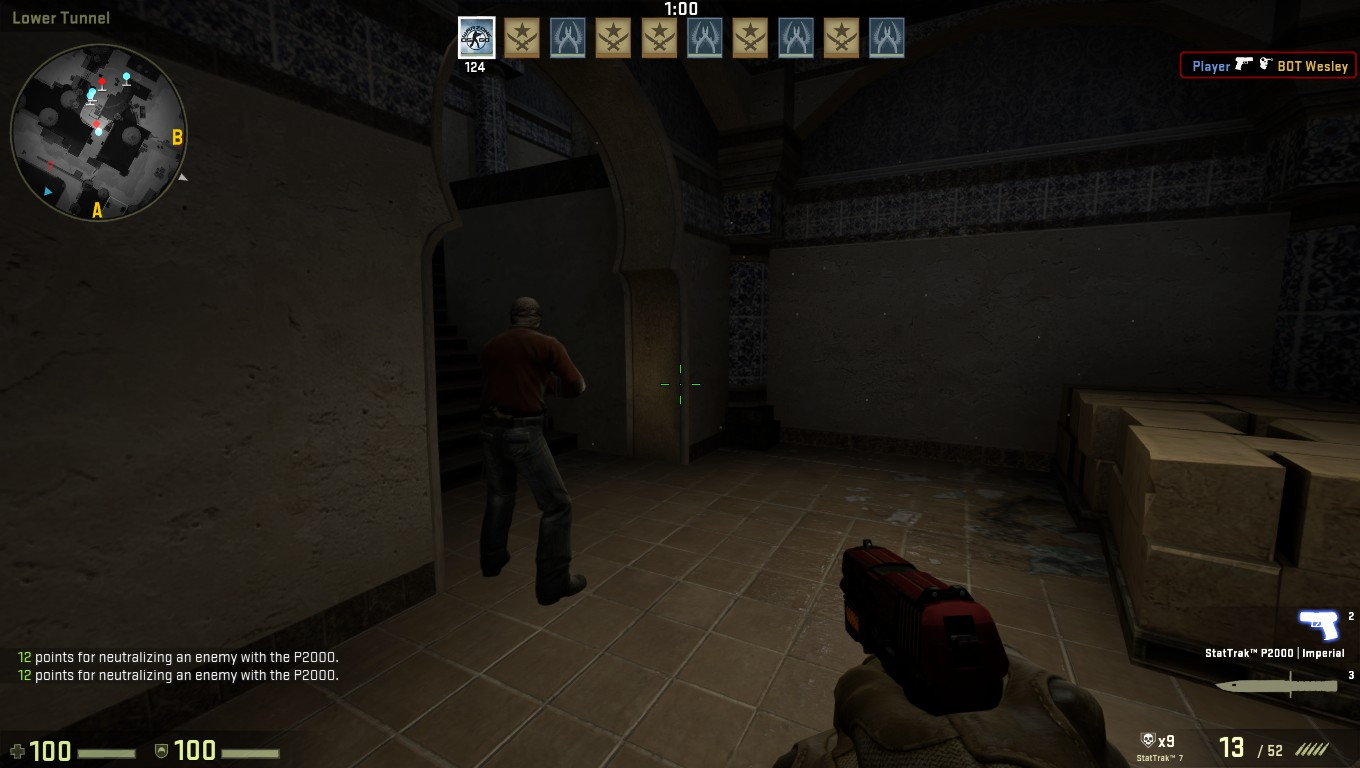t: (467, 282, 593, 605)
th: (499, 289, 552, 341)
